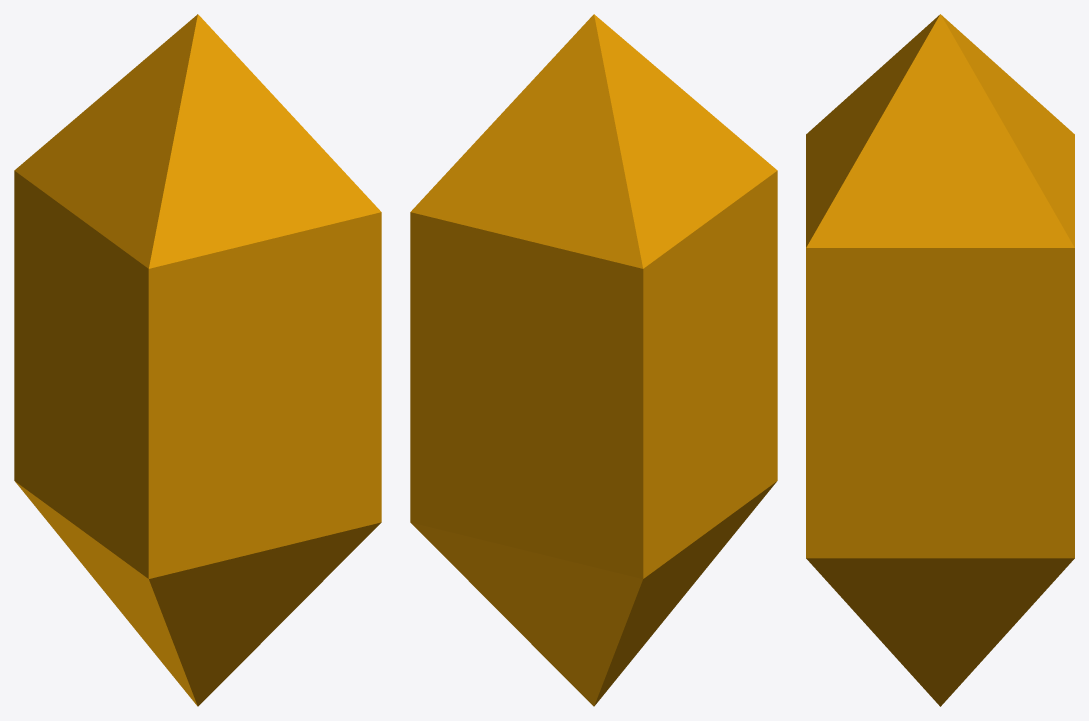
The model's file is player_orange.fbx.
The picture shows the model from 3 angles, left to right: view 1: azimuth 30°, elevation 25°; view 2: azimuth 150°, elevation 25°; view 3: azimuth 270°, elevation 25°; orthographic projection.
Visible parts, largest first — view 1: pCube1; view 2: pCube1; view 3: pCube1.
Boxes of the visible parts, bbox=[...] form: pCube1: bbox=[14, 14, 381, 706]; pCube1: bbox=[410, 14, 777, 706]; pCube1: bbox=[806, 14, 1074, 706].
Bounding box in the file's own units: 1 × 2.84 × 1.
